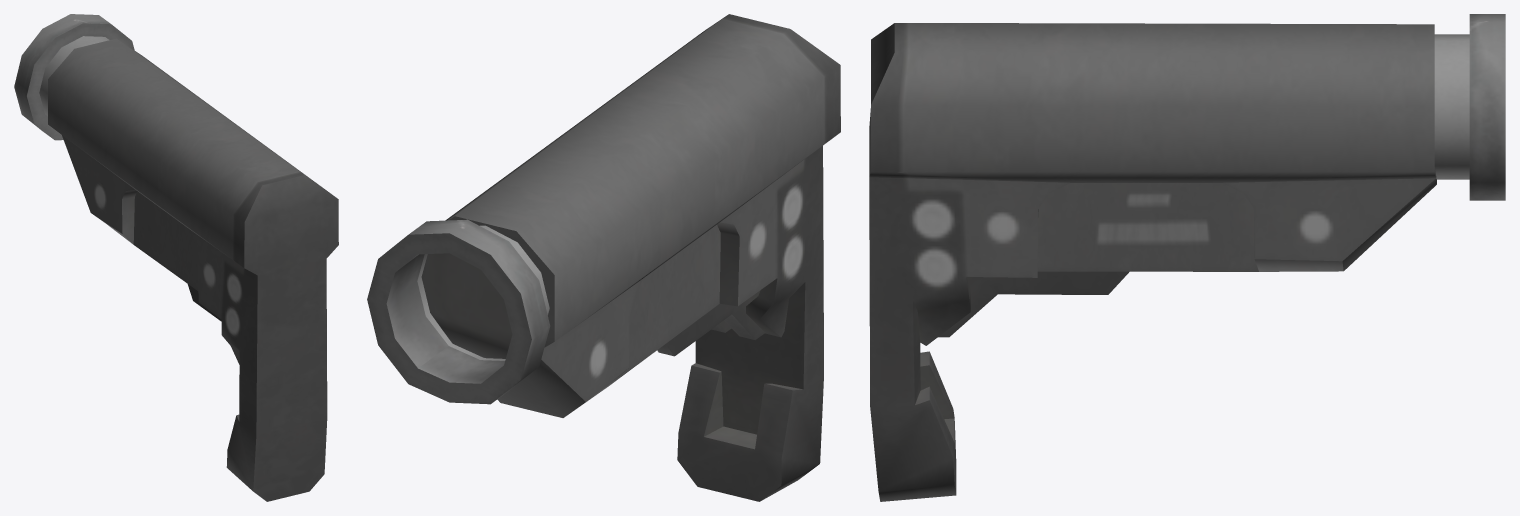
The model's file is IG_Acc_Stock_ALL_MOV_1.fbx.
3 views of the same model, side by side, from view 1: azimuth 30°, elevation 25°; view 2: azimuth 150°, elevation 25°; view 3: azimuth 270°, elevation 25° (orthographic). The views are drawn at different scales.
Visible parts, largest first — view 1: Stock_ALL_MOV_1; view 2: Stock_ALL_MOV_1; view 3: Stock_ALL_MOV_1.
Boxes of the visible parts, x1,y1,x2,y2 form: Stock_ALL_MOV_1: (14, 14, 338, 501); Stock_ALL_MOV_1: (367, 14, 840, 501); Stock_ALL_MOV_1: (869, 14, 1505, 501).
Bounding box in the file's own units: 0.0908 × 0.2485 × 0.3084.
